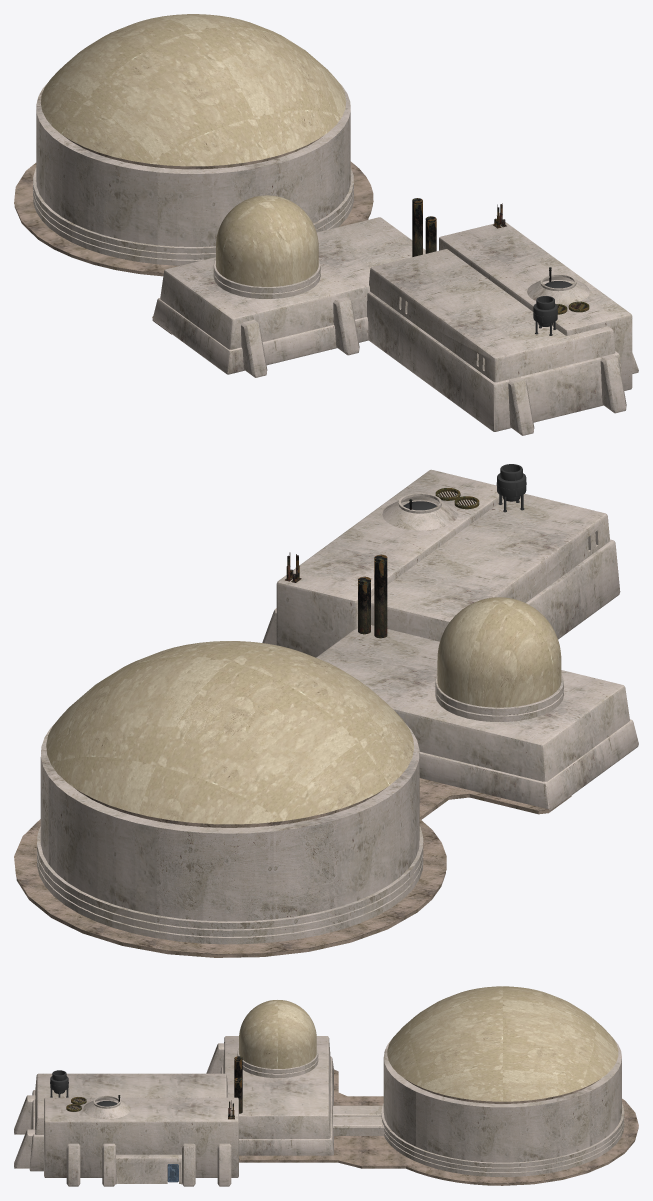
File: mosesly13.fbx
3 renders of one model, top to bottom at view 1: azimuth 30°, elevation 25°; view 2: azimuth 150°, elevation 25°; view 3: azimuth 270°, elevation 25°, orthographic. The views are drawn at different scales.
Visible parts, largest first — view 1: Sphere10, Cylinder13, ChamferBo6, ChamferBo2, ChamferBox, ChamferBo0, Sphere01, ChamferBo1, Line09, Cylinder12, Cylinder14, Cylinder03 (+8 smaller); view 2: Sphere10, Cylinder13, ChamferBo2, ChamferBo6, ChamferBo0, Sphere01, Line09, ChamferBo1, ChamferBox, Cylinder12, Cylinder03, Cylinder14 (+5 smaller); view 3: Sphere10, Cylinder13, ChamferBo0, ChamferBo2, Line09, ChamferBo6, Sphere01, ChamferBo1, ChamferBo3, Cylinder12, Cylinder14, Cylinder03 (+14 smaller).
Boxes of the visible parts, x1=… form: Sphere10: x1=40, y1=14, x2=346, y2=166; Cylinder13: x1=36, y1=83, x2=350, y2=246; ChamferBo6: x1=369, y1=249, x2=615, y2=382; ChamferBo2: x1=160, y1=217, x2=425, y2=349; ChamferBox: x1=367, y1=291, x2=621, y2=431; ChamferBo0: x1=439, y1=222, x2=632, y2=390; Sphere01: x1=216, y1=195, x2=318, y2=286; ChamferBo1: x1=153, y1=298, x2=368, y2=374; Line09: x1=14, y1=161, x2=373, y2=334; Cylinder12: x1=33, y1=167, x2=353, y2=253; Cylinder14: x1=33, y1=184, x2=353, y2=259; Cylinder03: x1=33, y1=190, x2=353, y2=265; Sphere10: x1=46, y1=641, x2=414, y2=824; Cylinder13: x1=40, y1=723, x2=419, y2=921; ChamferBo2: x1=316, y1=625, x2=629, y2=781; ChamferBo6: x1=371, y1=494, x2=609, y2=641; ChamferBo0: x1=276, y1=469, x2=503, y2=657; Sphere01: x1=437, y1=597, x2=561, y2=707; Line09: x1=14, y1=778, x2=571, y2=957; ChamferBo1: x1=419, y1=719, x2=638, y2=810; ChamferBox: x1=526, y1=539, x2=620, y2=639; Cylinder12: x1=37, y1=826, x2=423, y2=929; Cylinder03: x1=37, y1=857, x2=423, y2=944; Cylinder14: x1=37, y1=849, x2=423, y2=936; Sphere10: x1=387, y1=986, x2=618, y2=1101; Cylinder13: x1=383, y1=1039, x2=621, y2=1162; ChamferBo0: x1=44, y1=1097, x2=238, y2=1177; ChamferBo2: x1=223, y1=1036, x2=330, y2=1138; Line09: x1=239, y1=1069, x2=638, y2=1185; ChamferBo6: x1=35, y1=1073, x2=227, y2=1134; Sphere01: x1=239, y1=1000, x2=316, y2=1068; ChamferBo1: x1=220, y1=1056, x2=333, y2=1155; ChamferBo3: x1=115, y1=1154, x2=182, y2=1184; Cylinder12: x1=381, y1=1103, x2=624, y2=1167; Cylinder14: x1=384, y1=1118, x2=624, y2=1172; Cylinder03: x1=384, y1=1123, x2=624, y2=1176.
Size of what is drawn, in the model's own units: 5771 by 2986 by 13113.
